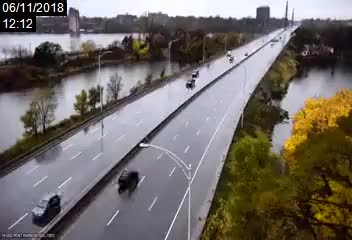personal_car: (31, 194, 62, 220), (114, 166, 141, 190), (184, 77, 197, 87), (189, 68, 202, 78)
